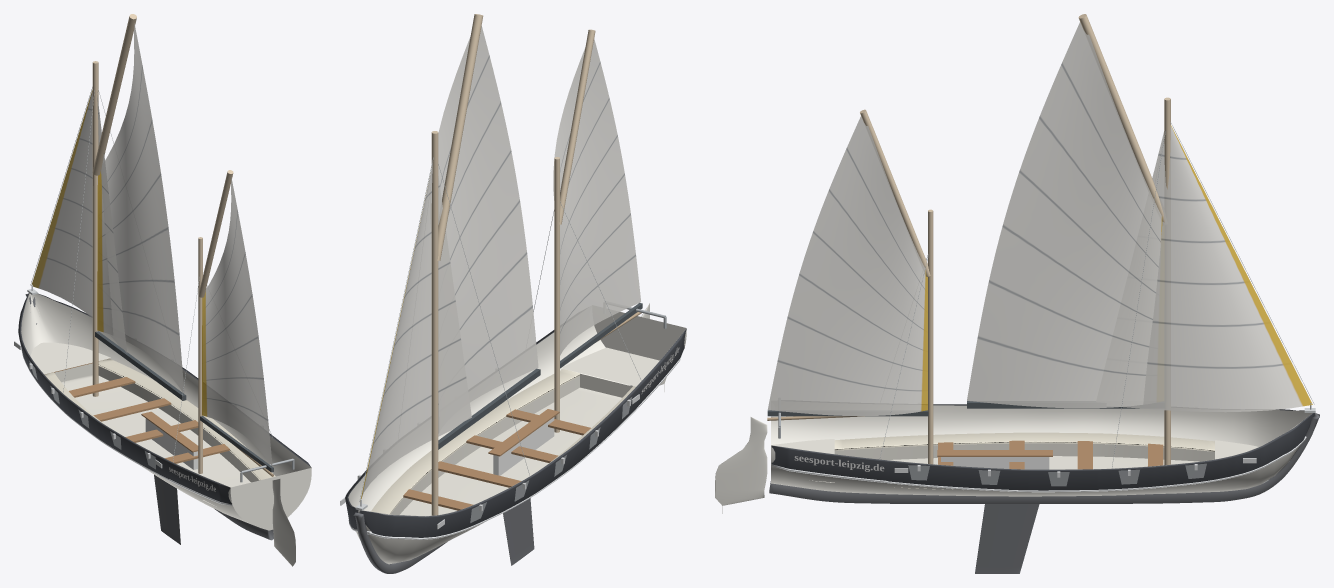
Rendered from zk10-gfk.glb.
3 views of the same model, side by side, from view 1: azimuth 30°, elevation 25°; view 2: azimuth 150°, elevation 25°; view 3: azimuth 270°, elevation 25° (orthographic). The views are drawn at different scales.
Parts seen in each view (by area): view 1: Großsegel, Besan, Rumpf, Fock, Boden mit Seitenwänden, Schwarzband (Pink-Panther-Streifen), 300 mm, Seitenbank Stb., Großmast, Vordeck, Ruder, Schwert, Besanmast (+8 smaller); view 2: Großsegel, Besan, Fock, Boden mit Seitenwänden, Rumpf, Schwarzband (Pink-Panther-Streifen), 300 mm, Seitenbank Stb., Großmast, Achterdeck, Besanmast, Schwert, Schwertkasten (+7 smaller); view 3: Großsegel, Besan, Fock, Rumpf, Schwarzband (Pink-Panther-Streifen), 300 mm, Kiel und Vorsteven, Boden mit Seitenwänden, Seitenbank Bb., Schwert, Ruder, Besanmast, Edelstahlleiste unter dem Schwarzband (+3 smaller).
Part boxes in pixels (x1,y1,x2,y2): Großsegel: [92, 14, 186, 400]; Besan: [198, 170, 273, 472]; Rumpf: [21, 293, 311, 530]; Fock: [31, 89, 127, 353]; Boden mit Seitenwänden: [54, 363, 259, 508]; Schwarzband (Pink-Panther-Streifen), 300 mm: [18, 293, 310, 504]; Seitenbank Stb.: [98, 358, 275, 480]; Großmast: [92, 61, 98, 396]; Vordeck: [30, 342, 110, 374]; Ruder: [272, 479, 295, 566]; Schwert: [154, 474, 180, 544]; Besanmast: [198, 237, 202, 473]; Großsegel: [437, 14, 540, 449]; Besan: [553, 29, 642, 368]; Fock: [361, 163, 471, 498]; Boden mit Seitenwänden: [390, 369, 632, 516]; Rumpf: [348, 312, 686, 564]; Schwarzband (Pink-Panther-Streifen), 300 mm: [345, 329, 686, 537]; Seitenbank Stb.: [371, 369, 579, 514]; Großmast: [431, 131, 438, 515]; Achterdeck: [561, 347, 659, 386]; Besanmast: [554, 157, 559, 432]; Schwert: [503, 498, 534, 565]; Schwertkasten: [493, 417, 554, 475]; Großsegel: [967, 14, 1164, 408]; Besan: [767, 109, 930, 416]; Fock: [1123, 125, 1312, 412]; Rumpf: [771, 405, 1315, 496]; Schwarzband (Pink-Panther-Streifen), 300 mm: [771, 404, 1314, 490]; Kiel und Vorsteven: [769, 413, 1319, 503]; Boden mit Seitenwänden: [834, 443, 1214, 469]; Seitenbank Bb.: [834, 432, 1214, 451]; Schwert: [975, 504, 1039, 573]; Ruder: [715, 417, 767, 513]; Besanmast: [928, 209, 933, 464]; Edelstahlleiste unter dem Schwarzband: [771, 436, 1306, 492].
Bounding box in the file's own units: 2.26 × 8.5 × 8.34.
Materials: 20 (2 with a texture image).
